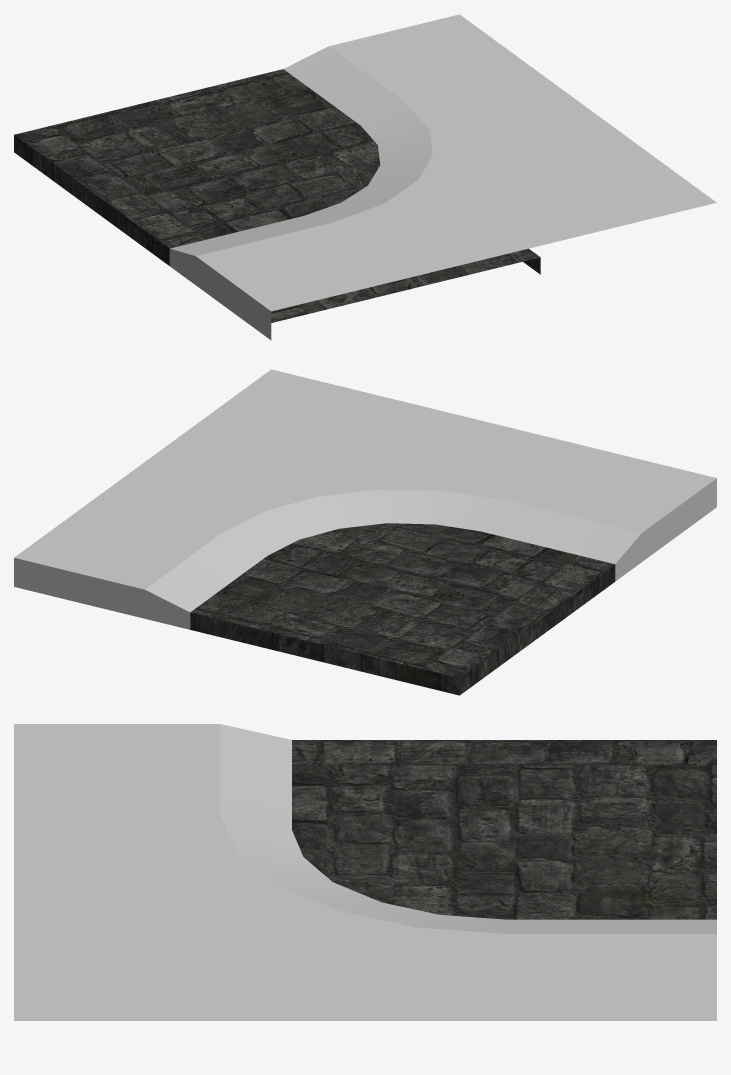
Rendered from alley_01_end_right.DAE.
The picture shows the model from 3 angles, top to bottom: view 1: azimuth 30°, elevation 25°; view 2: azimuth 150°, elevation 25°; view 3: azimuth 270°, elevation 25°; orthographic projection. The views are drawn at different scales.
Visible parts, largest first — view 1: Box013, Box014; view 2: Box013, Box014; view 3: Box013, Box014.
Boxes of the visible parts, box(x1,y1,x2,y2) form: Box013: box(169, 14, 716, 340); Box014: box(14, 69, 540, 322); Box013: box(14, 369, 716, 629); Box014: box(190, 523, 615, 695); Box013: box(14, 724, 716, 1020); Box014: box(292, 740, 716, 919).
Bounding box in the file's own units: 4 × 0.25 × 4.
